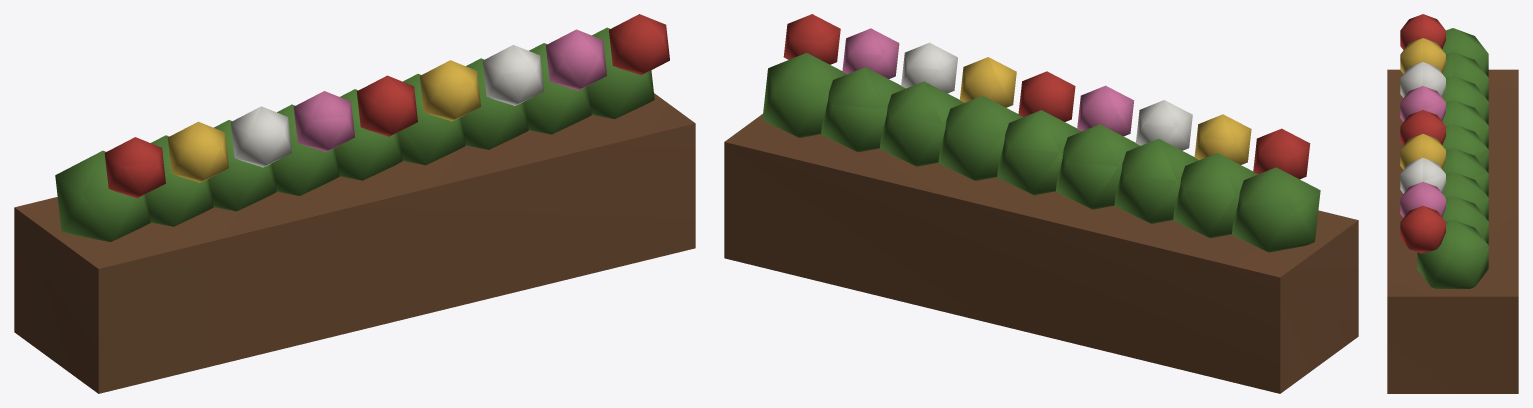
Rendered from flower_box.glb.
The picture shows the model from 3 angles, left to right: view 1: azimuth 30°, elevation 25°; view 2: azimuth 150°, elevation 25°; view 3: azimuth 270°, elevation 25°; orthographic projection. The views are drawn at different scales.
Parts seen in each view (by area): view 1: FlowerBox; view 2: FlowerBox; view 3: FlowerBox.
Part boxes in pixels (x1,y1,x2,y2): FlowerBox: [14, 14, 695, 393]; FlowerBox: [724, 14, 1358, 393]; FlowerBox: [1387, 14, 1518, 393].
Size of the model in its own units: 0.9 by 0.325 by 0.22.
